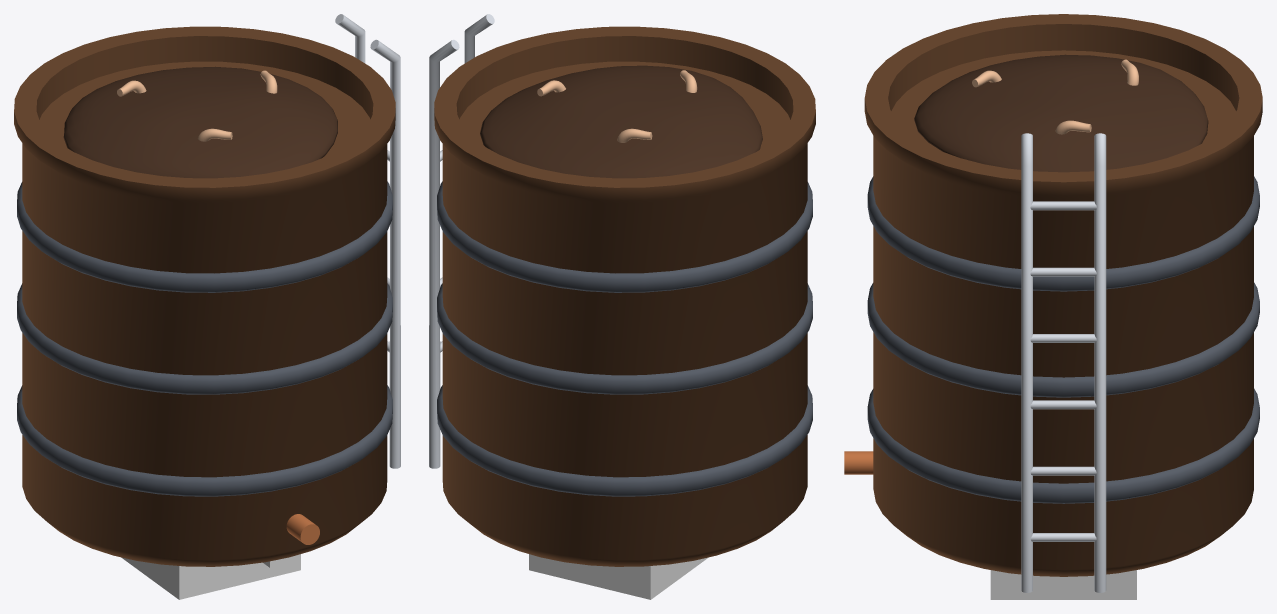
File: BiohumusTank.fbx
3 views of the same model, side by side, from view 1: azimuth 30°, elevation 25°; view 2: azimuth 150°, elevation 25°; view 3: azimuth 270°, elevation 25° (orthographic). The views are drawn at different scales.
Parts seen in each view (by area): view 1: Body__WoodDark, Body__SoilDark, Body__MetalDark, Body__Chrome, Origin__Pivot, Body__Skin, Body__Copper; view 2: Body__WoodDark, Body__SoilDark, Body__MetalDark, Body__Chrome, Origin__Pivot, Body__Skin; view 3: Body__WoodDark, Body__SoilDark, Body__MetalDark, Body__Chrome, Origin__Pivot, Body__Skin, Body__Copper.
Boxes of the visible parts, <box> form: Body__WoodDark: <box>14,26,395,566</box>; Body__SoilDark: <box>63,66,337,178</box>; Body__MetalDark: <box>17,181,392,496</box>; Body__Chrome: <box>335,14,400,468</box>; Origin__Pivot: <box>121,554,300,599</box>; Body__Skin: <box>117,70,277,141</box>; Body__Copper: <box>286,514,319,544</box>; Body__WoodDark: <box>434,26,815,566</box>; Body__SoilDark: <box>480,65,762,178</box>; Body__MetalDark: <box>437,181,812,496</box>; Body__Chrome: <box>429,14,494,468</box>; Origin__Pivot: <box>529,554,708,599</box>; Body__Skin: <box>537,70,697,142</box>; Body__WoodDark: <box>864,14,1262,576</box>; Body__SoilDark: <box>914,54,1208,172</box>; Body__MetalDark: <box>867,176,1259,503</box>; Body__Chrome: <box>1021,133,1106,592</box>; Origin__Pivot: <box>990,570,1136,599</box>; Body__Skin: <box>972,59,1138,134</box>; Body__Copper: <box>844,451,873,474</box>.
Size of the model in its own units: 2.82 by 3.88 by 2.86.
